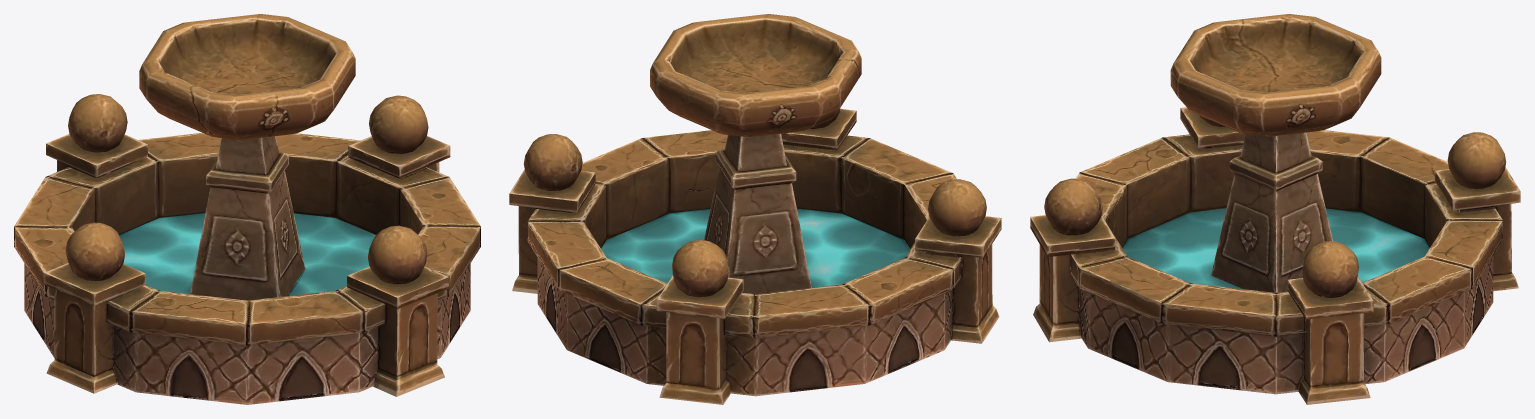
File: PRP_Fountain.glb
3 views of the same model, side by side, from view 1: azimuth 30°, elevation 25°; view 2: azimuth 150°, elevation 25°; view 3: azimuth 270°, elevation 25° (orthographic). The views are drawn at different scales.
Parts seen in each view (by area): view 1: Object_2; view 2: Object_2; view 3: Object_2.
Part boxes in pixels (x1,y1,x2,y2): Object_2: [14, 14, 480, 404]; Object_2: [509, 14, 1001, 404]; Object_2: [1030, 14, 1520, 404].
Bounding box in the file's own units: 4.33 × 2.43 × 4.33.
1 material, 1 textured.
